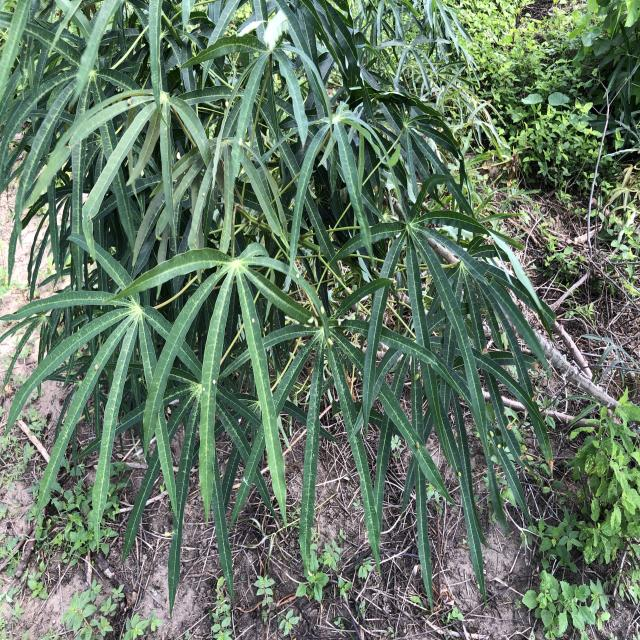Maleza: (505, 48, 639, 239), (572, 392, 640, 544)
Mosca: (246, 310, 261, 335), (205, 373, 220, 397), (133, 169, 155, 185), (173, 148, 186, 169), (121, 92, 136, 110), (464, 307, 475, 331), (411, 370, 431, 382)
